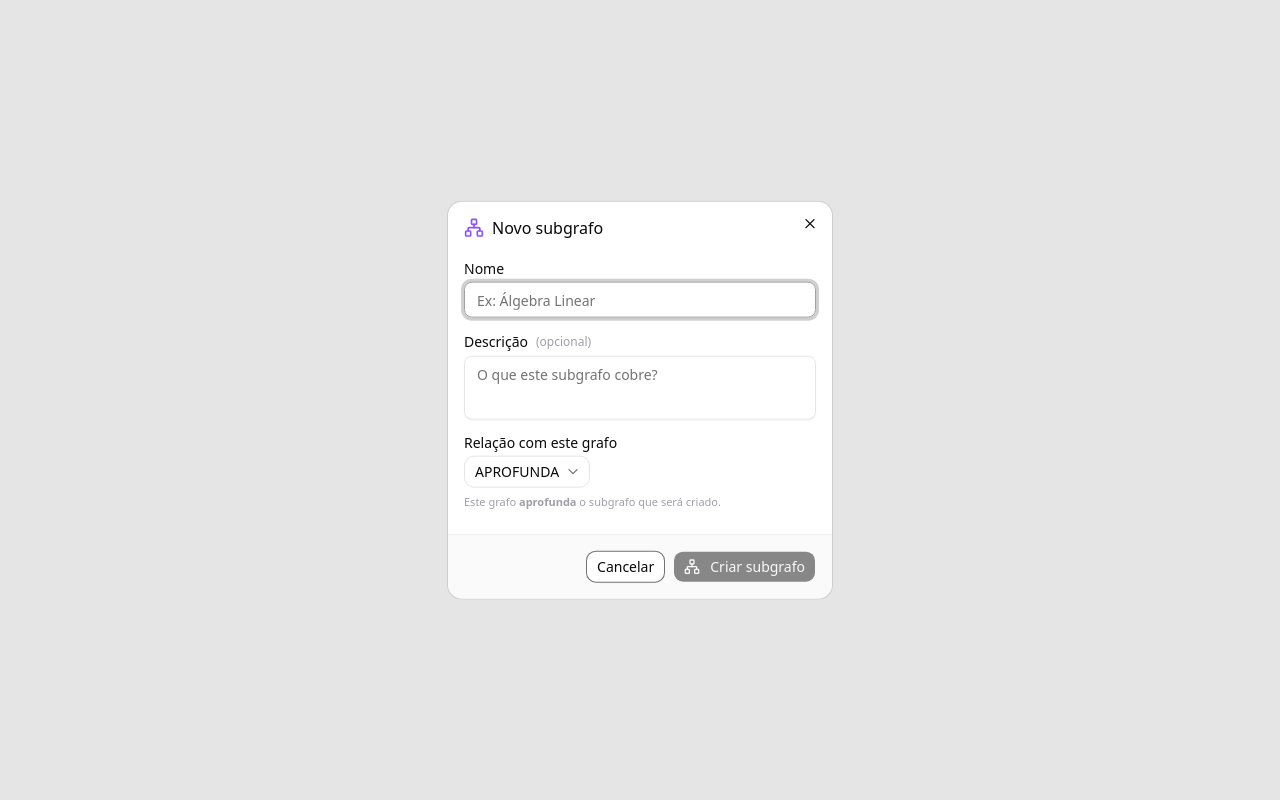
Scenario: CreateSubgrafoModal › keeps the create button disabled until a name is typed
Expected: the button "Criar subgrafo" is disabled, [673,550,816,582]
Type "X" into the field with placeholder "Ex: Álgebra Linear" at {"x": 640, "y": 300}, box [464,282,816,318]
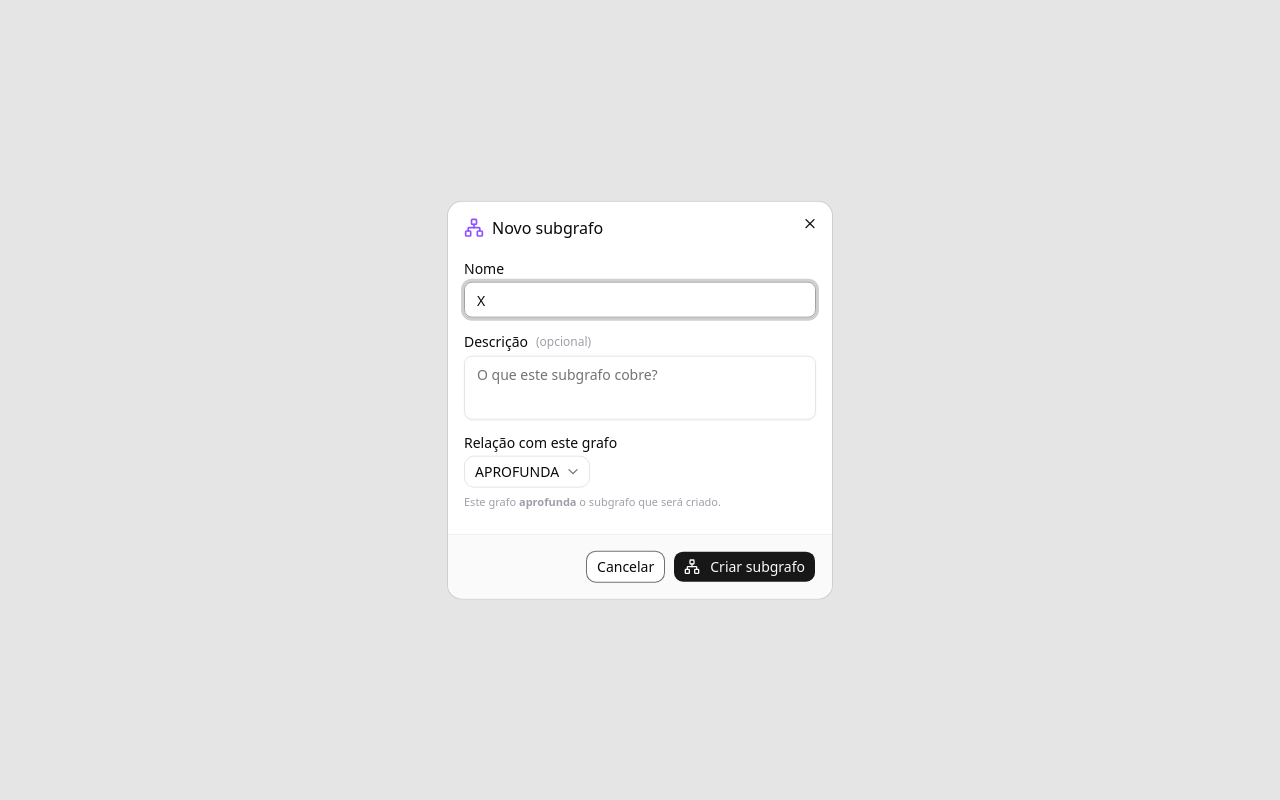
Expected: the button "Criar subgrafo" is enabled, [673,550,816,582]
